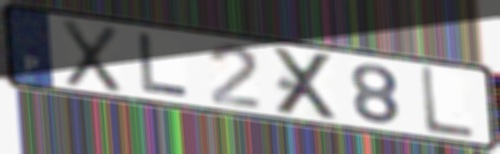2: (205, 41, 266, 113)
8: (349, 62, 405, 125)
L: (417, 64, 477, 141), (136, 30, 192, 101)
X: (270, 45, 342, 123), (59, 16, 124, 96)
